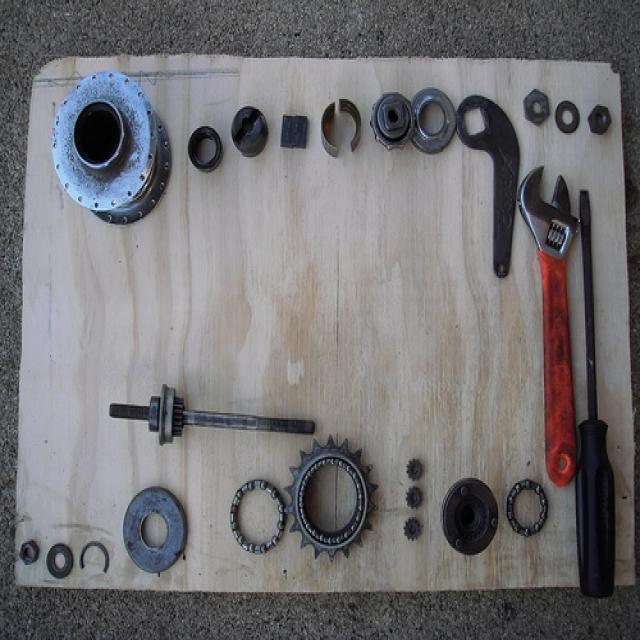wrench: (514, 160, 585, 484)
